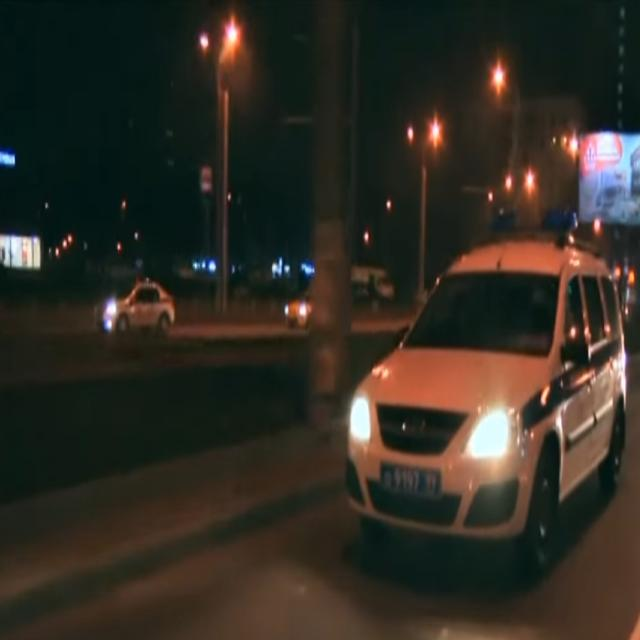non emergency car: (96, 278, 176, 337), (285, 274, 314, 333)
police car: (345, 210, 628, 577)
